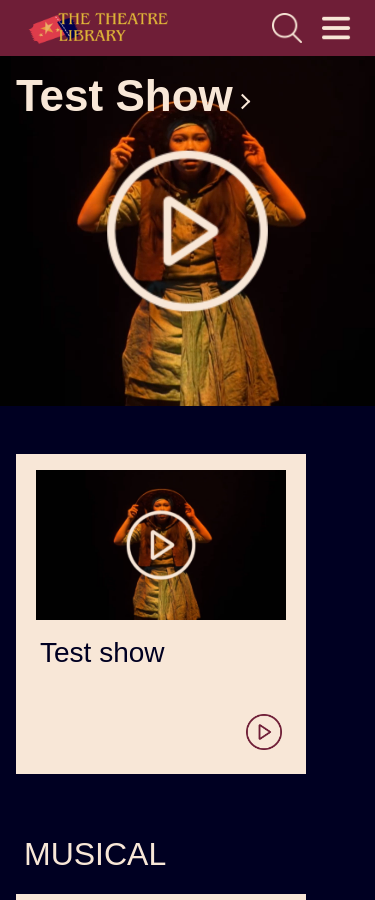
Test: Responsive search › Clears the search after selecting a show at 375px
Click the button with class "search_toggle" at x=287, y=28, box x1=269 y1=8 x2=305 y2=48
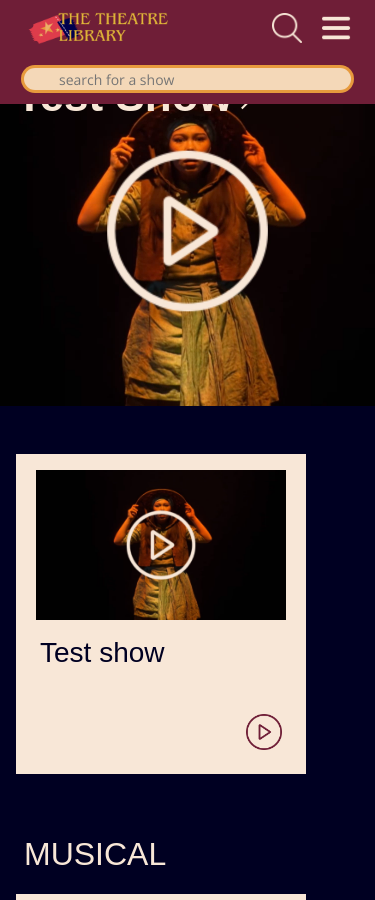
Type "Test" into the field with id "search" at x=188, y=79, box x1=24 y1=68 x2=351 y2=90
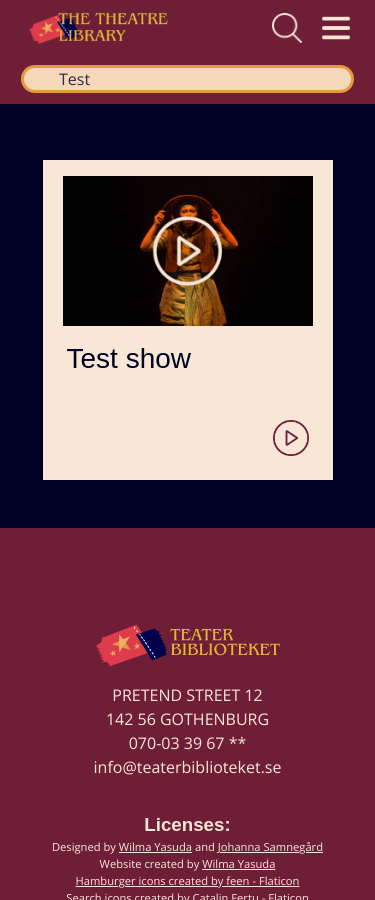
Click the link "Test show" at x=188, y=320, box x1=43 y1=160 x2=333 y2=480
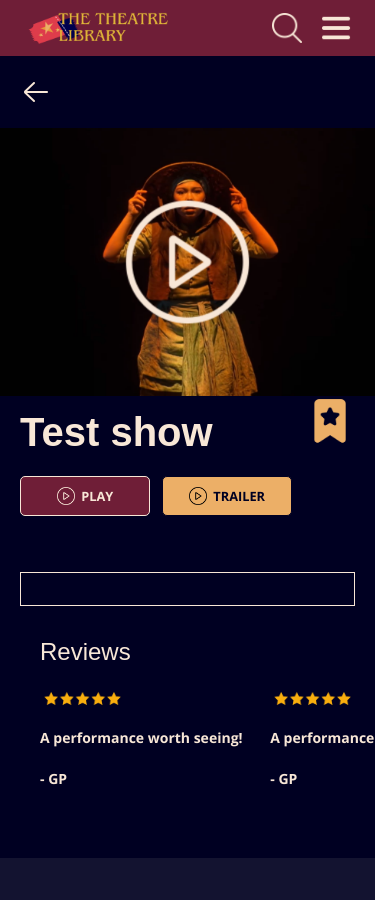
Now the field with id "search" is gone
Click the button with class "search_toggle" at x=287, y=28, box x1=269 y1=8 x2=305 y2=48
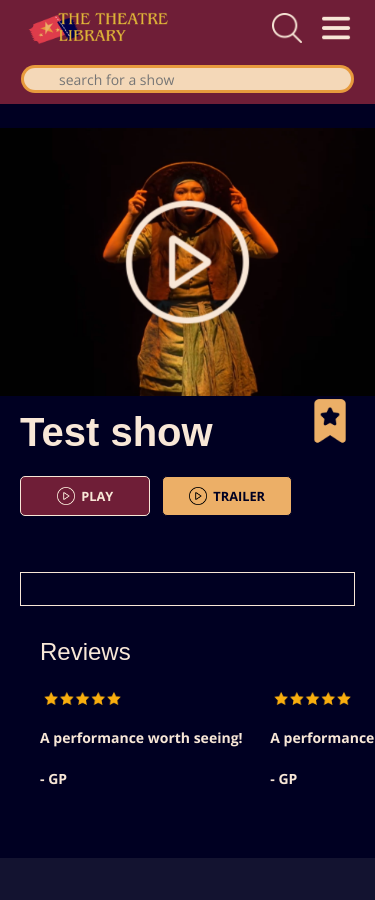
Click the button with class "search_toggle" at x=287, y=28, box x1=269 y1=8 x2=305 y2=48
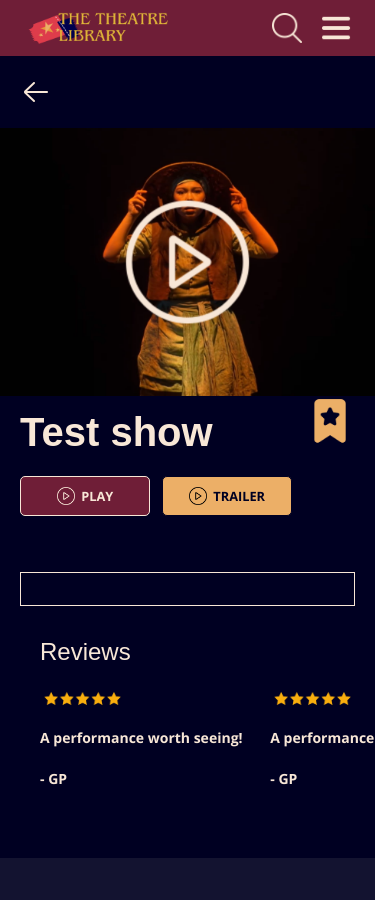
Click the picture named "Back to the homepage" at x=36, y=92, box x1=20 y1=76 x2=52 y2=108
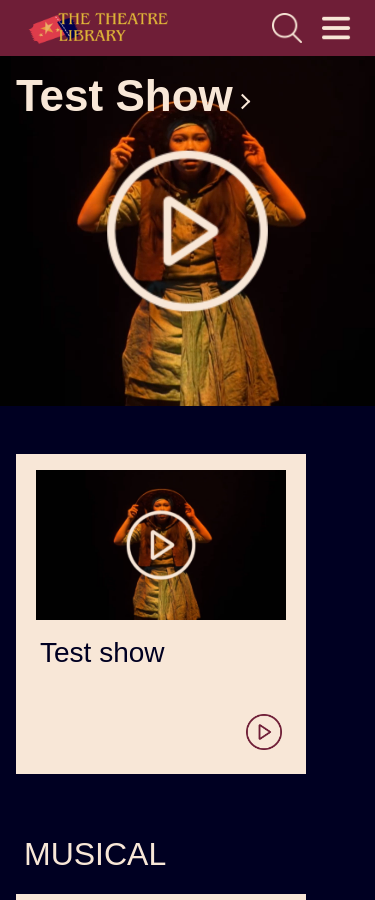
Now the element with id "show_article" is shown
